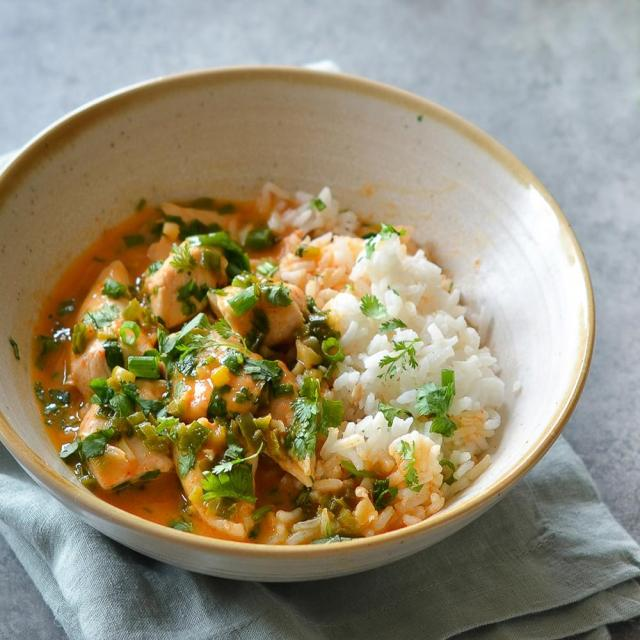chicken: (59, 226, 306, 534)
rice: (310, 215, 496, 452)
